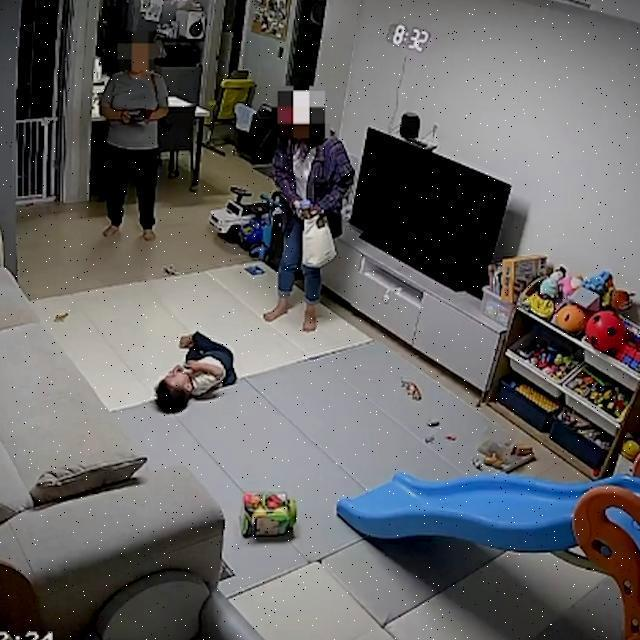child: (153, 330, 239, 415)
